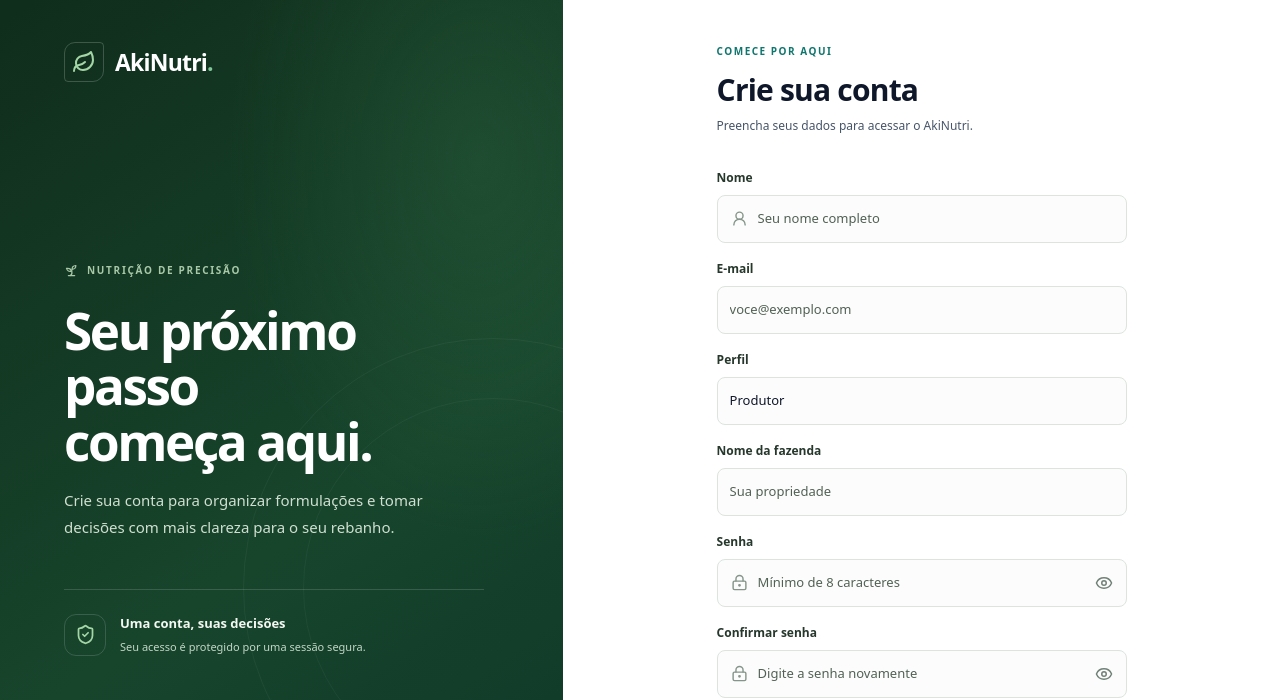
register checks matching passwords before sending a request
This screenshot has width=1280, height=700.
In the field labelled "Nome": (942, 218) x1=758 y1=196 x2=1126 y2=242, type "Pessoa"
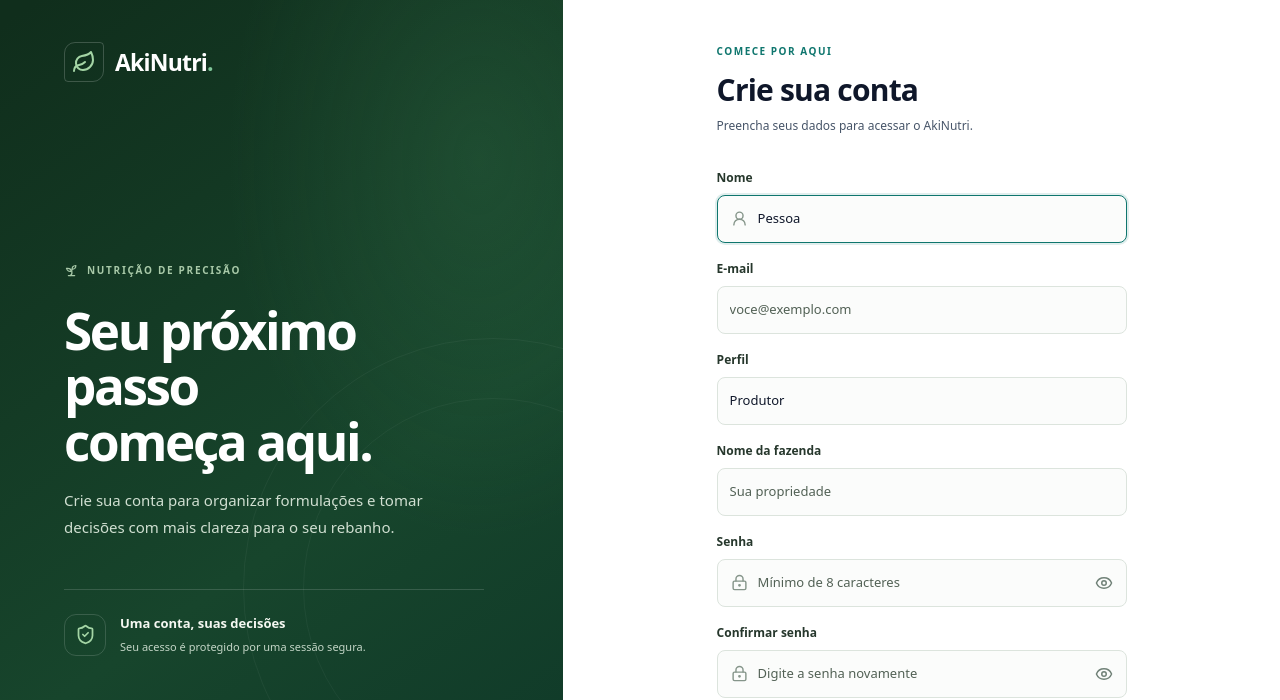
In the field labelled "E-mail": (922, 310) x1=717 y1=286 x2=1127 y2=334, type "pessoa@exemplo.com"
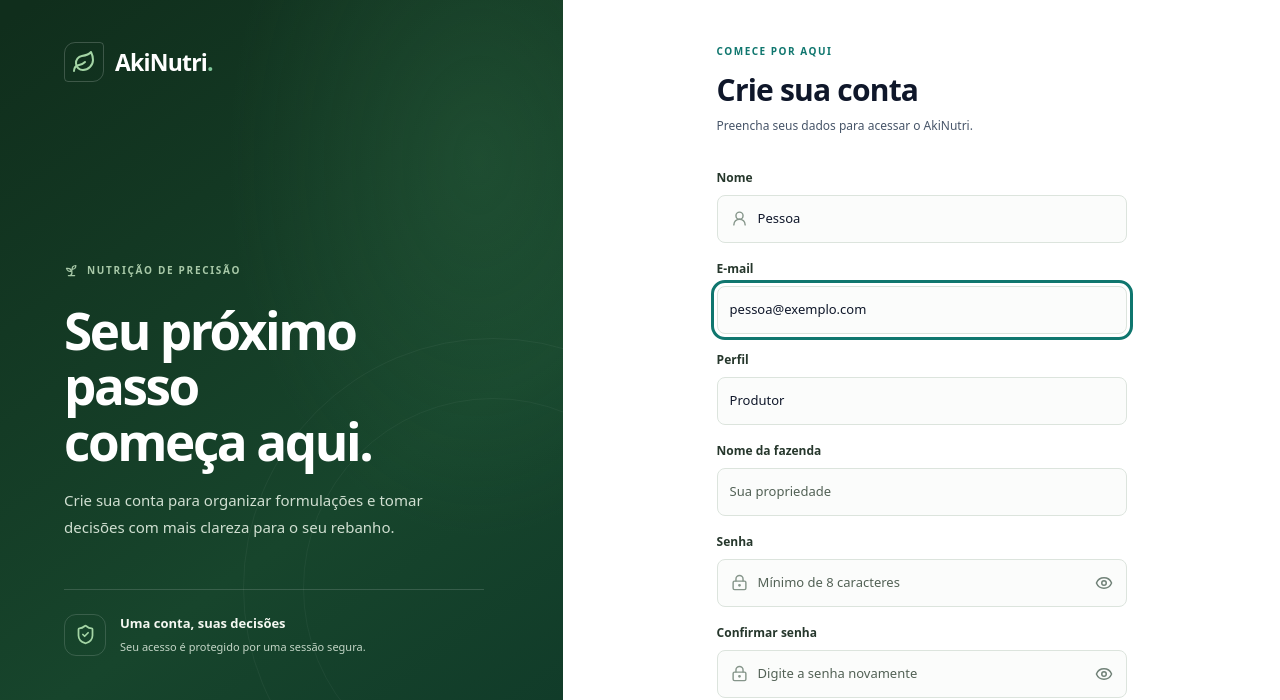
In the password field labelled "Senha": (915, 582) x1=758 y1=560 x2=1072 y2=606, type "senha-segura-123"
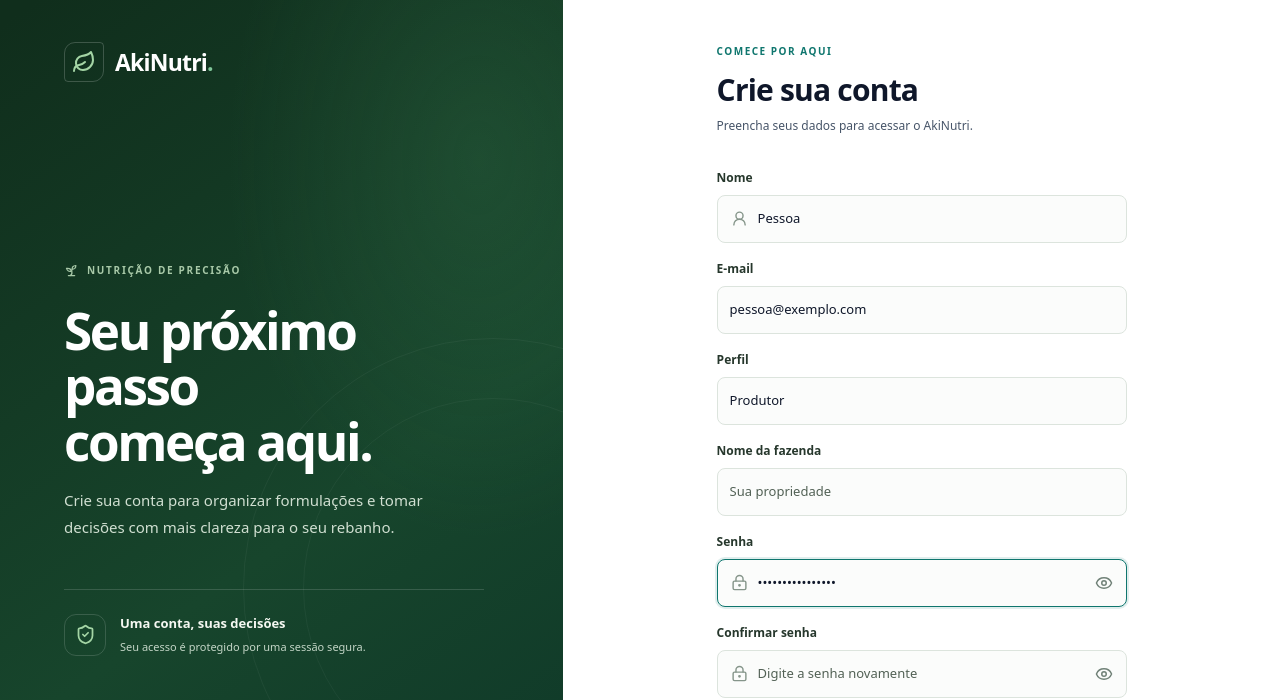
In the password field labelled "Confirmar senha": (915, 674) x1=758 y1=650 x2=1072 y2=696, type "senha-diferente-123"
(page scrolled)
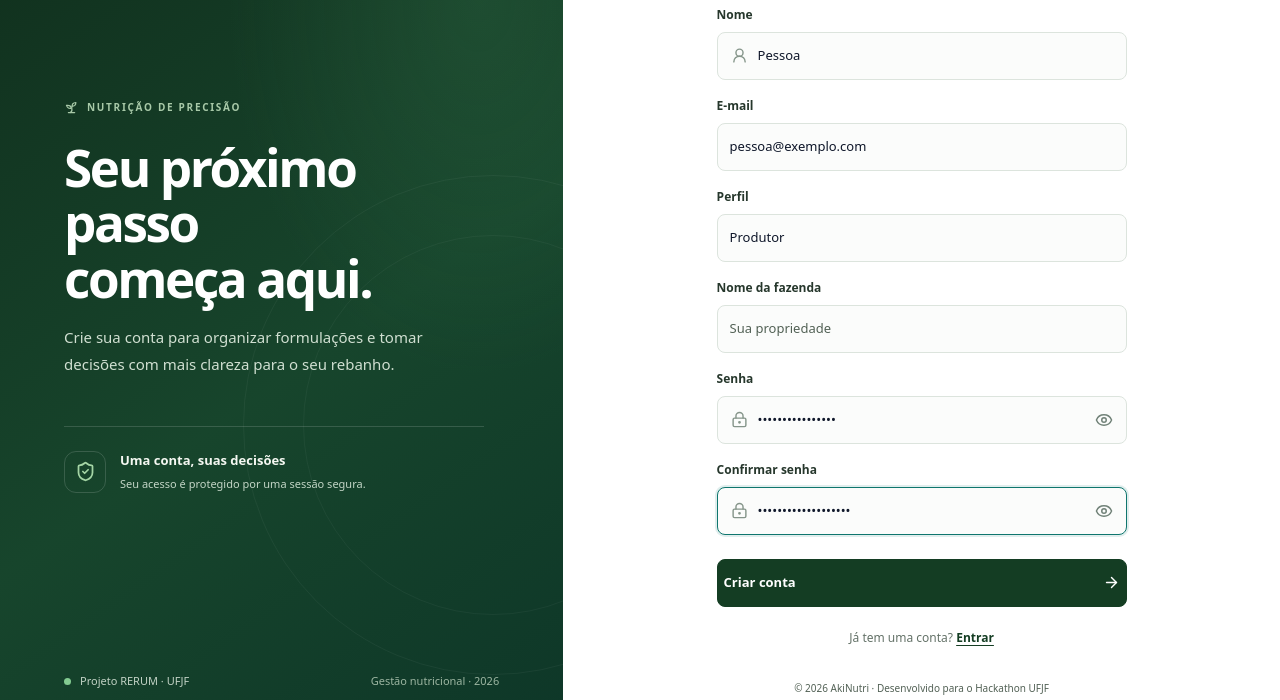
Click the button "Criar conta": (760, 582) x1=717 y1=558 x2=1127 y2=606
(page scrolled)
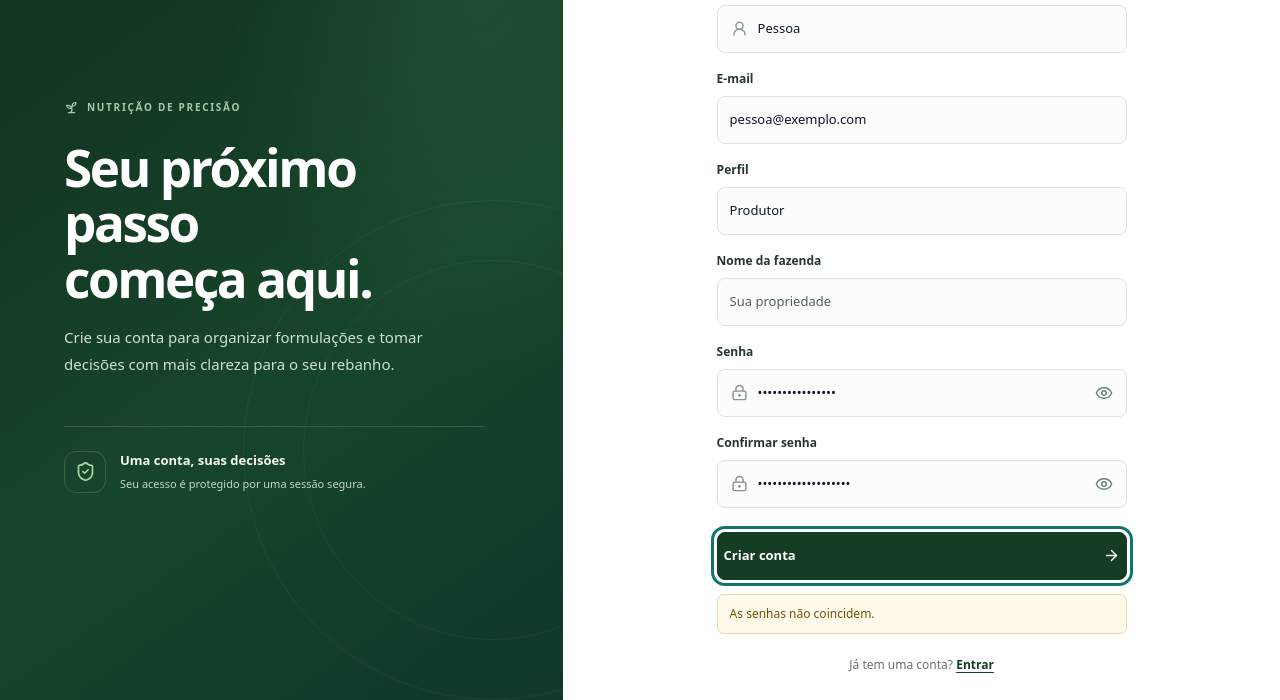
expect the message reads "As senhas não coincidem.": met, box x1=730 y1=604 x2=875 y2=622
